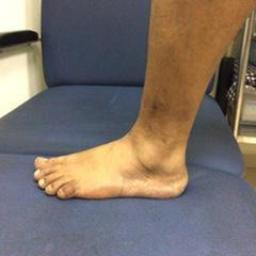Lateral View -Left Foot-: (26, 110, 202, 208)
